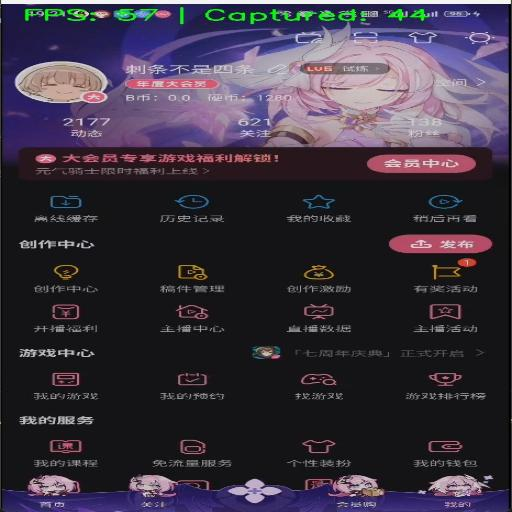butten: (149, 190, 245, 233), (283, 184, 366, 230), (23, 191, 106, 228), (34, 111, 128, 142), (413, 188, 486, 226), (394, 112, 458, 142), (220, 116, 283, 142), (424, 72, 498, 94)
